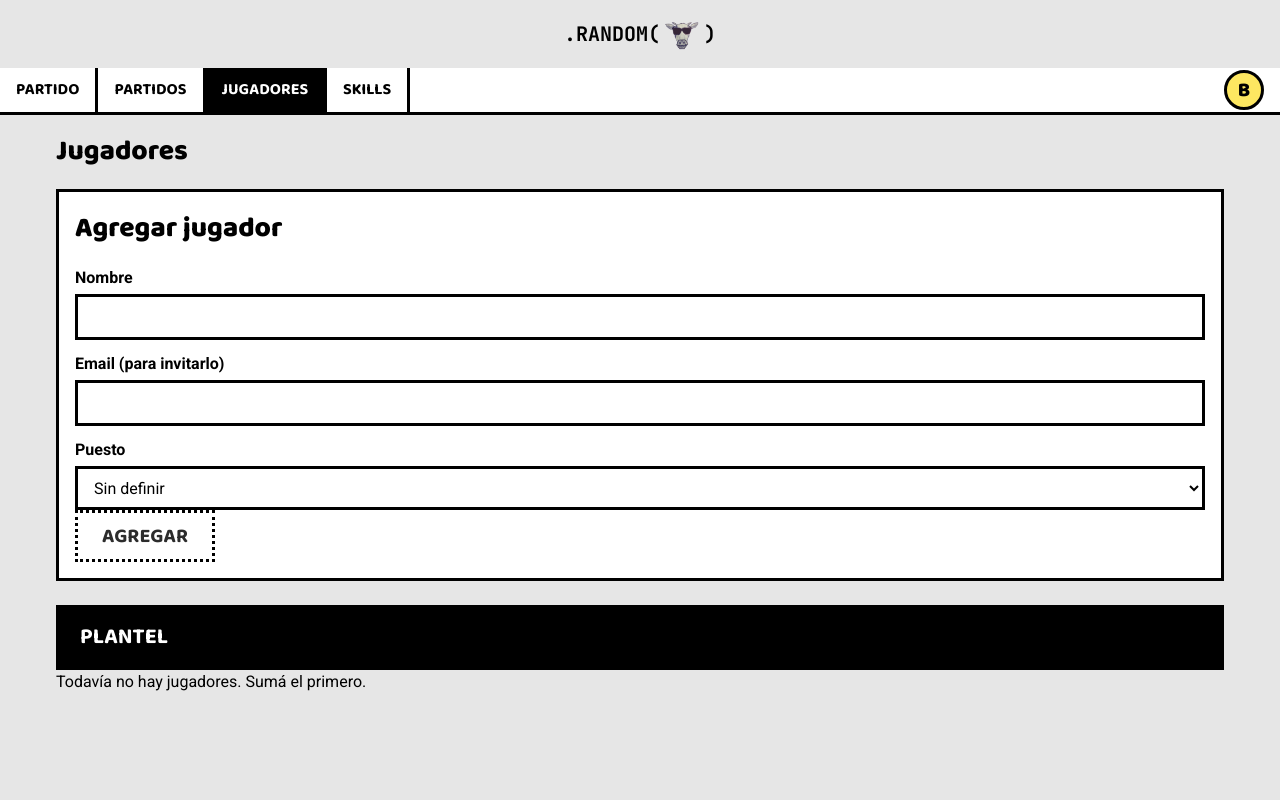
Scenario: jugadores › admin ve el error de validación al agregar
Type "x" into the field labelled "Nombre". click: (640,317)
box: 75,294 -> 1205,340
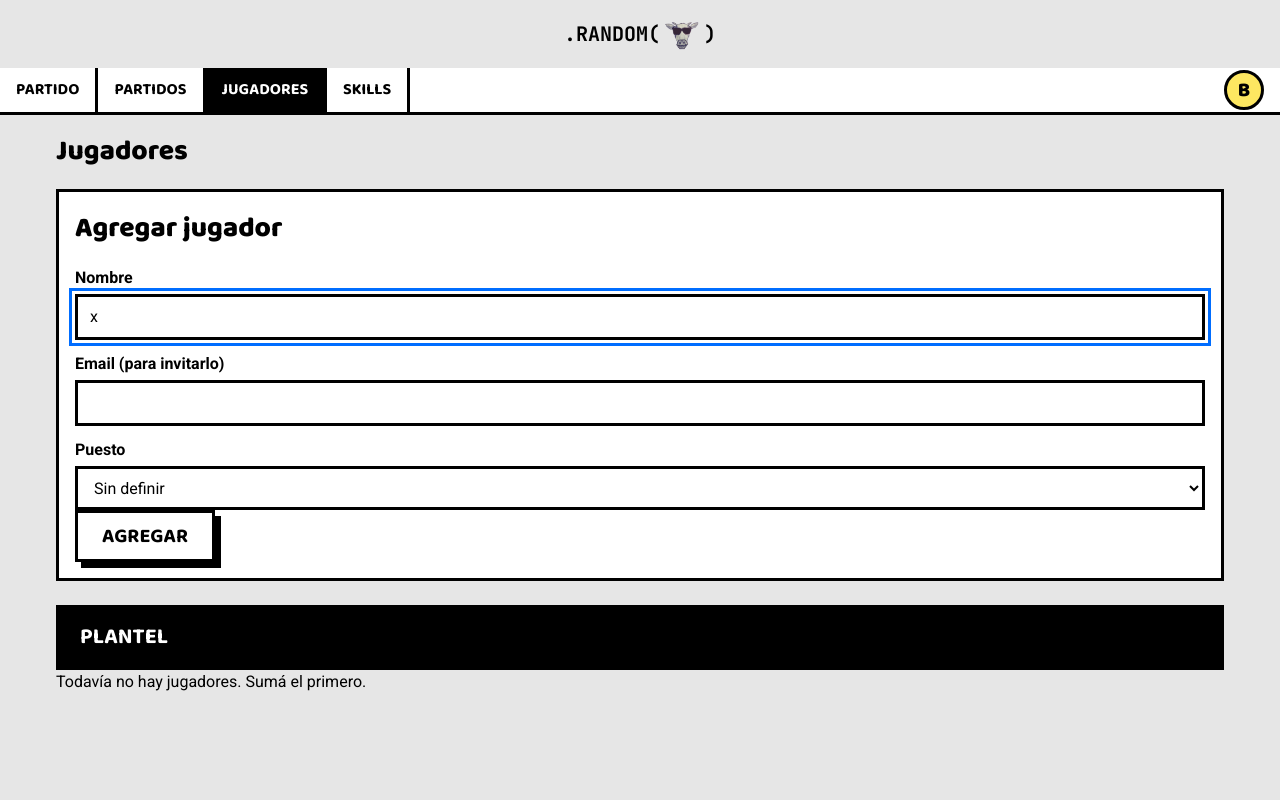
Click the button "Agregar". click: (145,536)
box: 75,510 -> 215,562
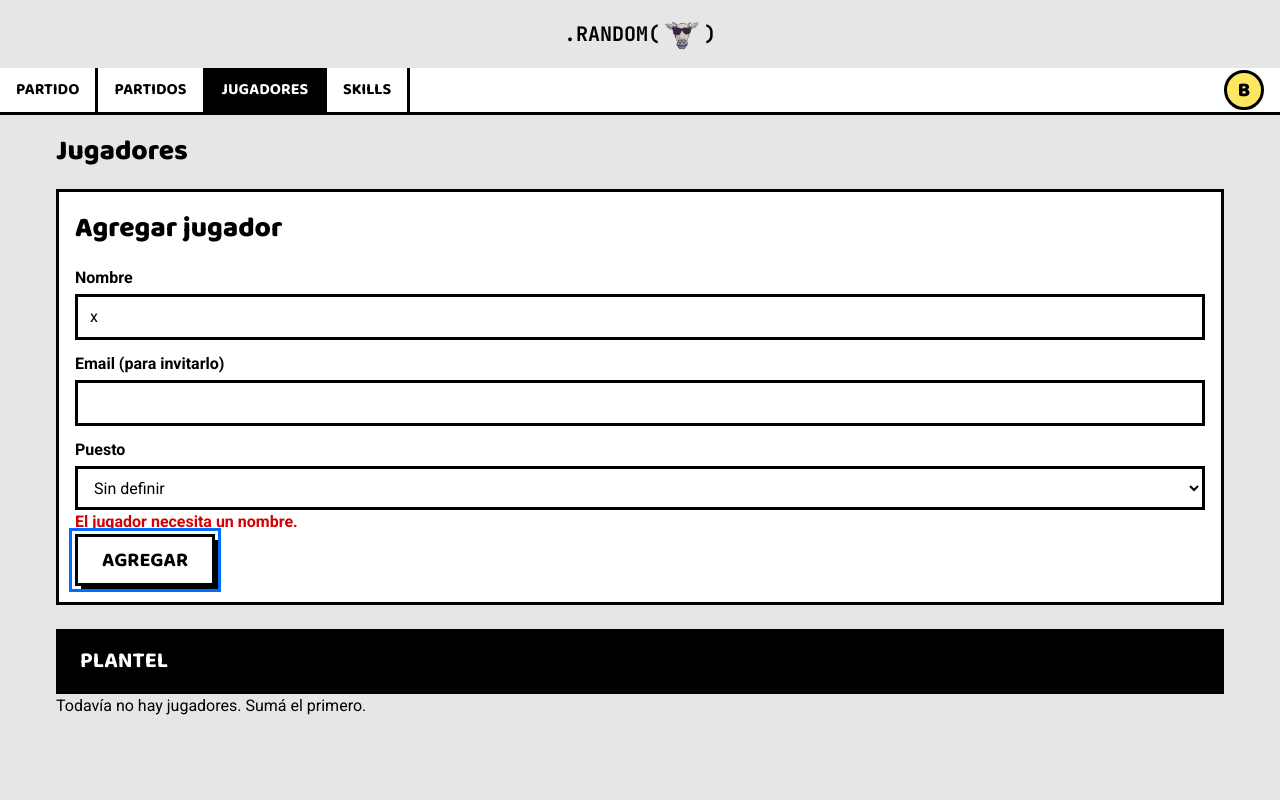
Check: the text "El jugador necesita un nombre." is shown, box 75,512 -> 298,531
